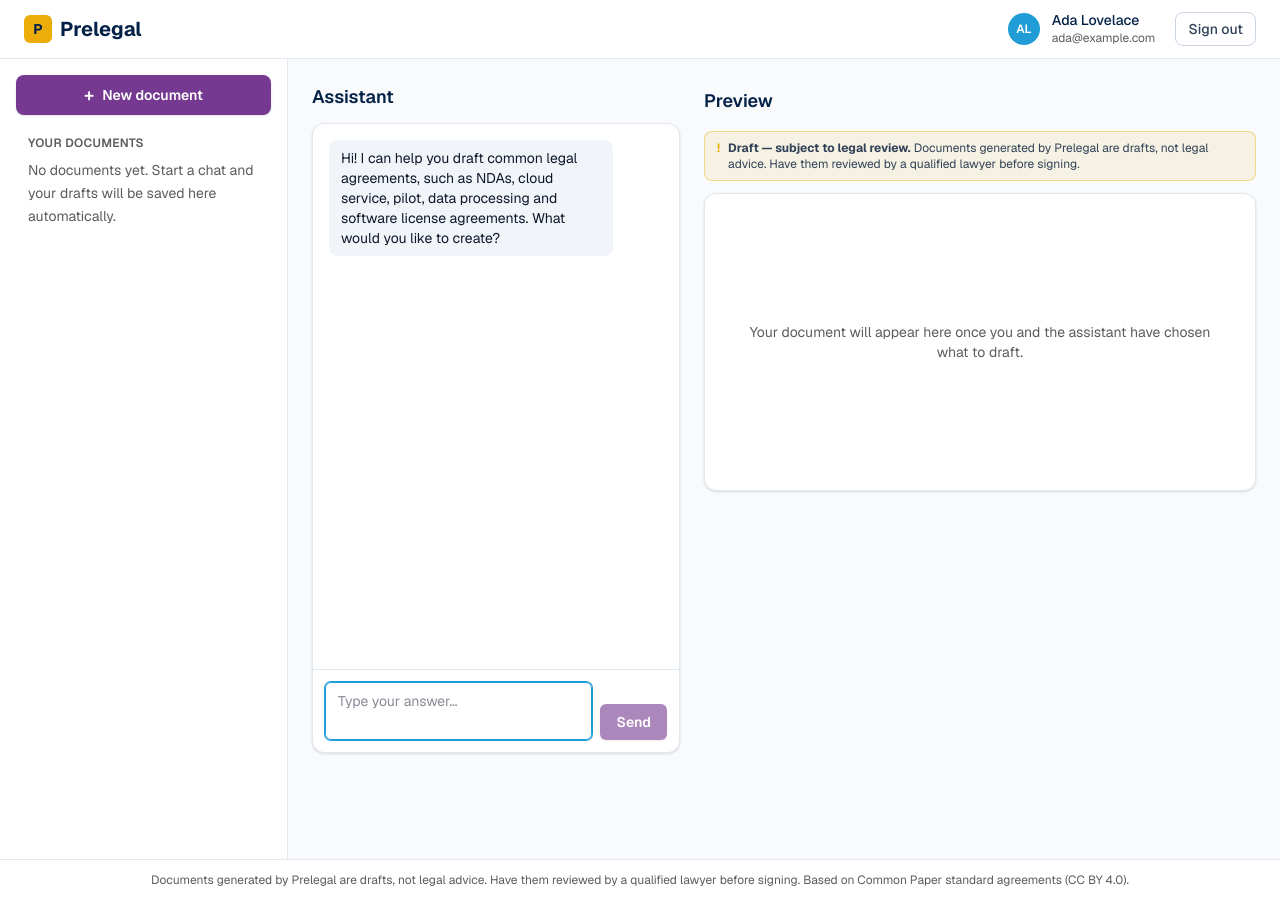
AppShell › does not select a document whose reply arrives after the user moved on
This screenshot has width=1280, height=900.
Check: the text "No documents yet" is shown, box [28,161,254,224]
Type "An NDA please" into the text box named "Message" at (459, 711), box [325,682,592,740]
Then press Enter
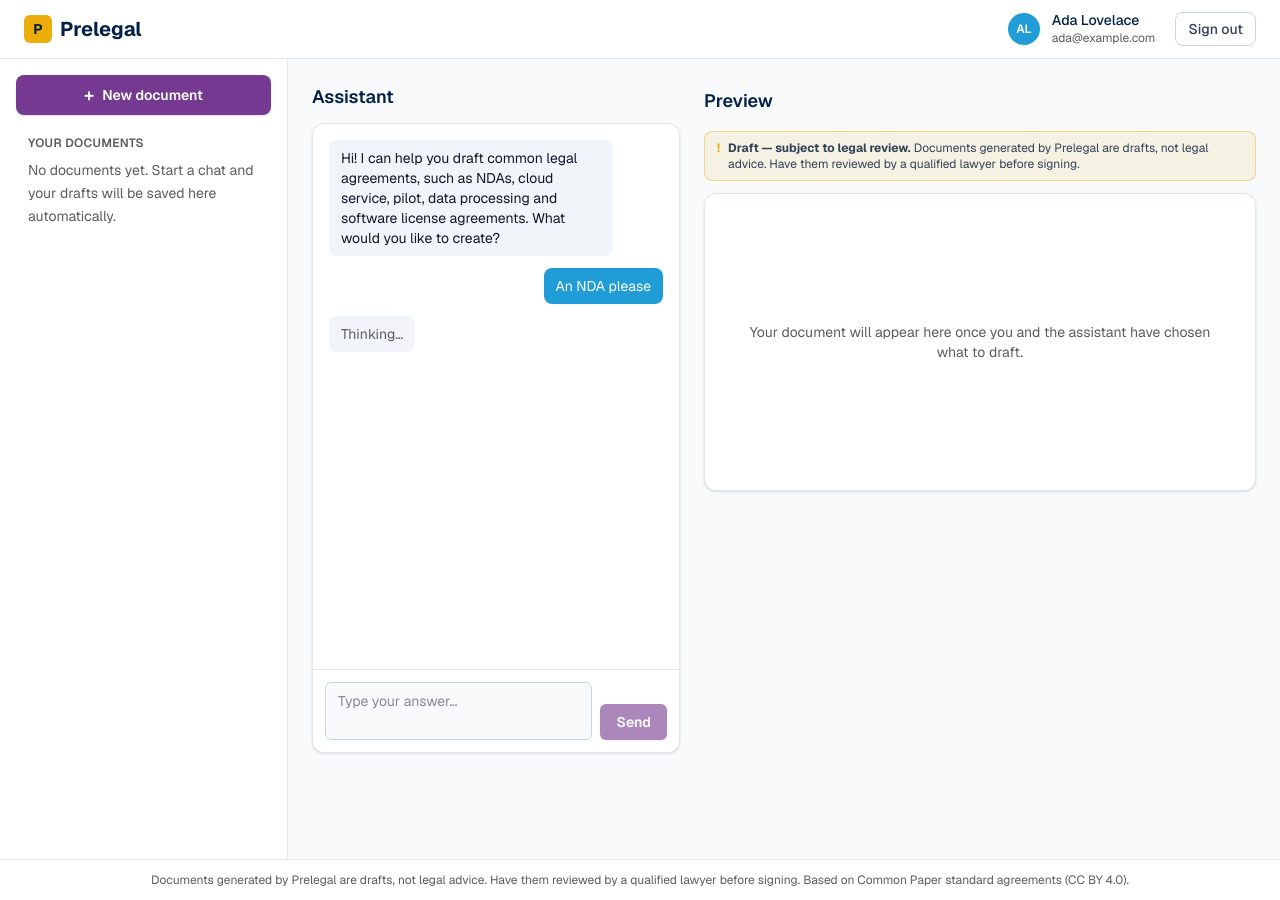
Click the button "+ New document" at (144, 95), box [16,75,271,115]
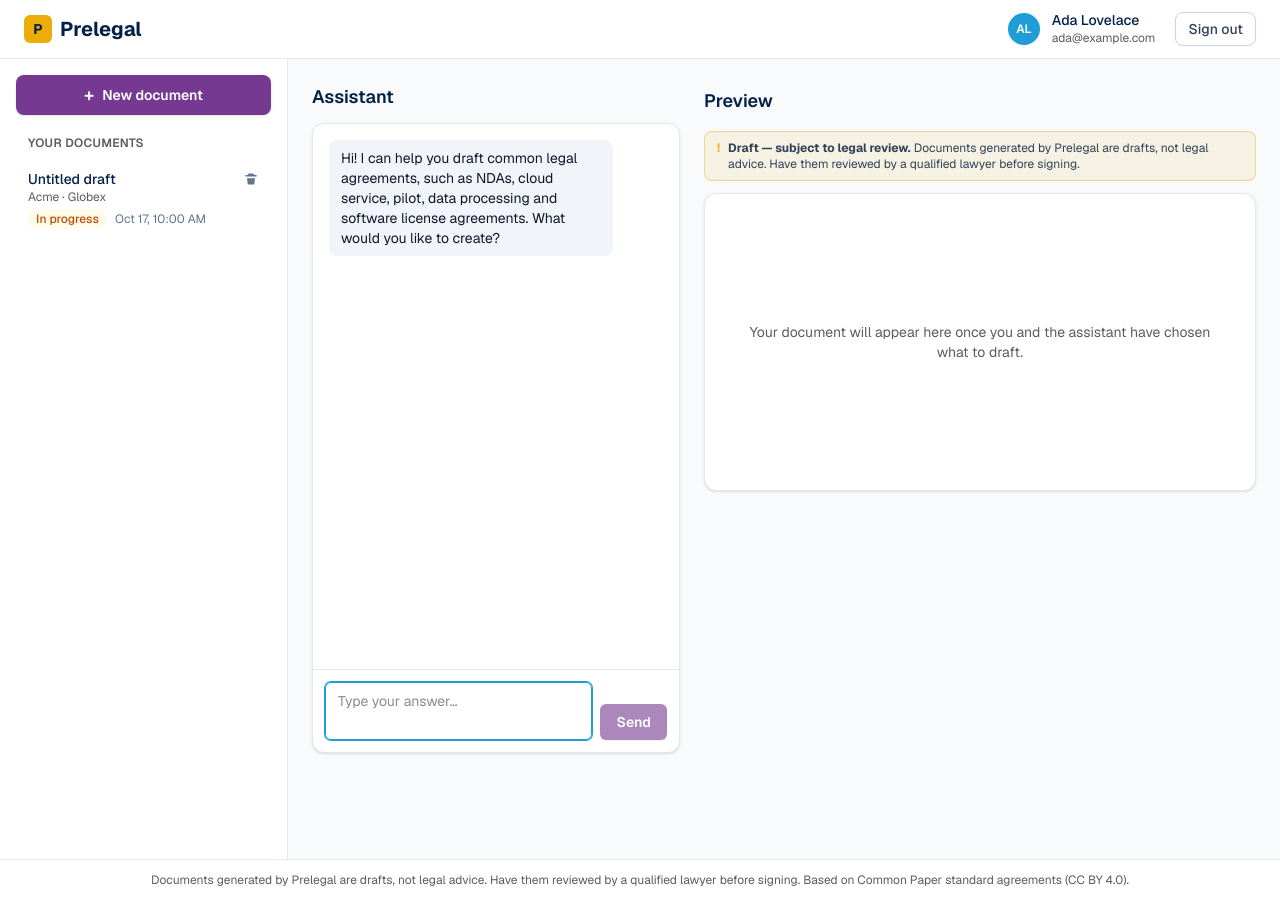
Check: the list named "Your documents" shows "Untitled draft", box [16,159,271,239]
